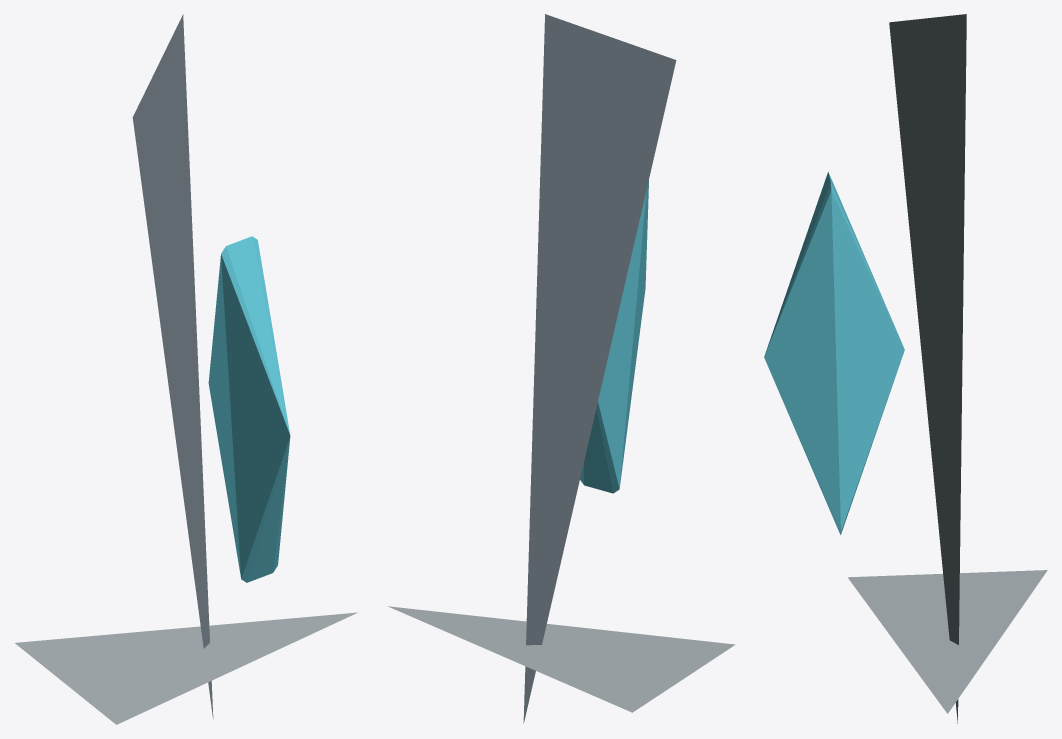
File: Landmark_04_LOD2.fbx
3 renders of one model, left to right at view 1: azimuth 30°, elevation 25°; view 2: azimuth 150°, elevation 25°; view 3: azimuth 270°, elevation 25°, orthographic. The views are drawn at different scales.
Visible parts, largest first — view 1: Landmark_04_LOD2; view 2: Landmark_04_LOD2; view 3: Landmark_04_LOD2.
Part boxes in pixels (x1=…): Landmark_04_LOD2: x1=15, y1=14, x2=357, y2=724; Landmark_04_LOD2: x1=388, y1=14, x2=735, y2=723; Landmark_04_LOD2: x1=764, y1=14, x2=1047, y2=723.
Bounding box in the file's own units: 211 × 490 × 181.
